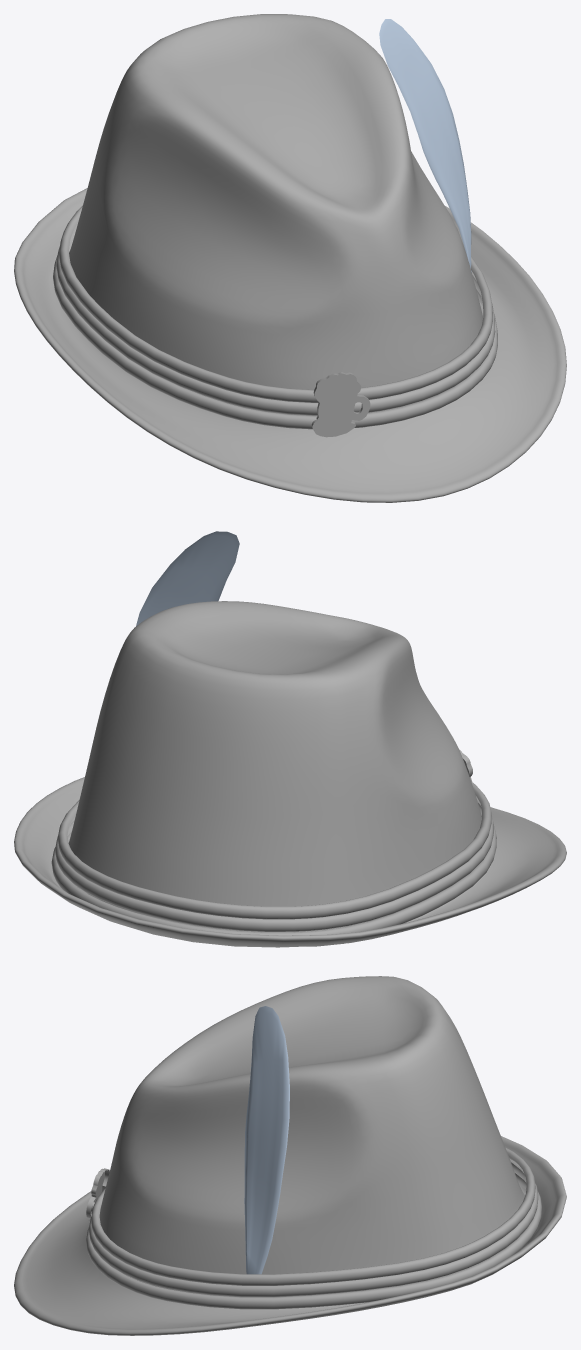
File: OctoberFestMan2.FBX
3 views of the same model, one above another, from view 1: azimuth 30°, elevation 25°; view 2: azimuth 150°, elevation 25°; view 3: azimuth 270°, elevation 25° (orthographic). The views are drawn at different scales.
Parts seen in each view (by area): view 1: Hat_low, sweeps, pero, icon; view 2: Hat_low, sweeps, pero; view 3: Hat_low, sweeps, pero, icon.
Part boxes in pixels (<box>): Hat_low: <box>14,14,566,502</box>; sweeps: <box>53,205,497,429</box>; pero: <box>379,19,471,272</box>; icon: <box>311,372,370,437</box>; Hat_low: <box>14,601,566,947</box>; sweeps: <box>51,781,496,935</box>; pero: <box>136,531,239,626</box>; Hat_low: <box>14,976,566,1335</box>; sweeps: <box>86,1147,541,1309</box>; pero: <box>244,1006,289,1274</box>; icon: <box>86,1168,109,1221</box>.
Bounding box in the file's own units: 258 × 196 × 310.
